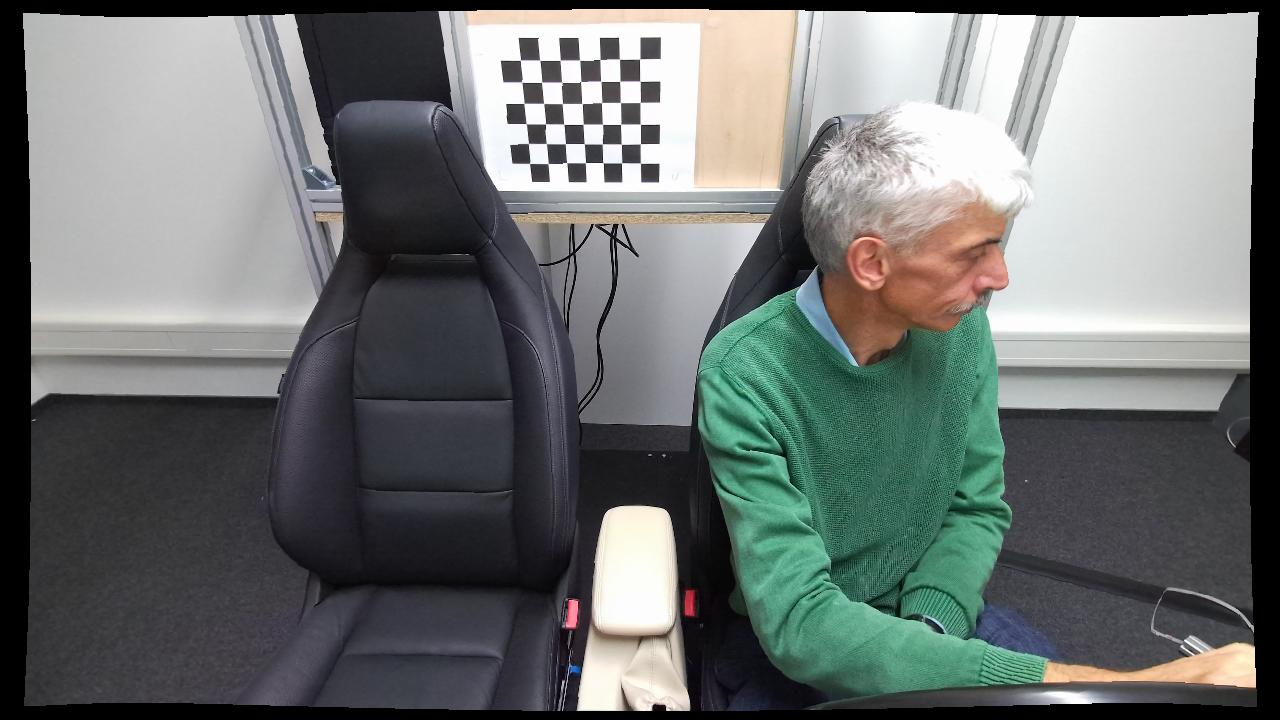Distracted: (686, 104, 1072, 712)
